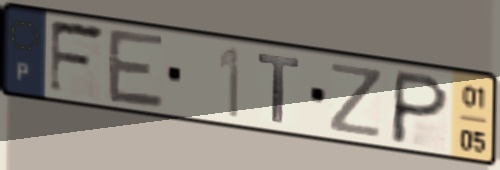1: (216, 44, 242, 122)
E: (106, 26, 168, 113)
F: (46, 17, 110, 99)
P: (386, 67, 453, 148)
T: (255, 51, 303, 127)
Z: (326, 59, 386, 141)
